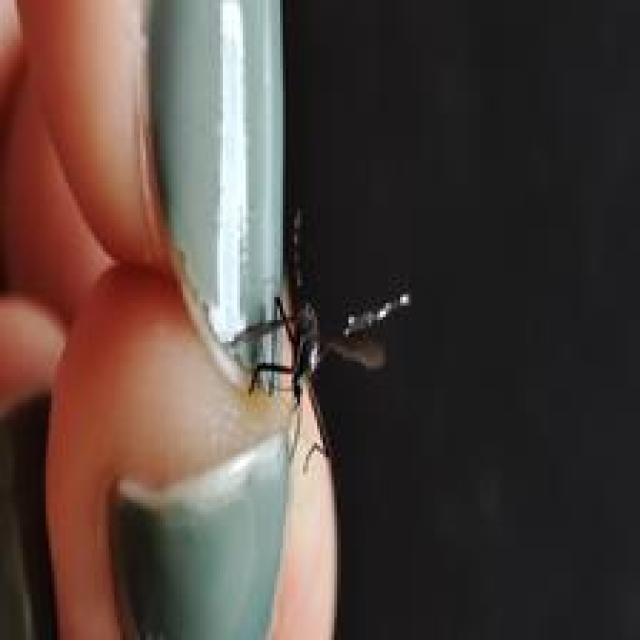Aedes albopictus: (223, 207, 411, 473)
